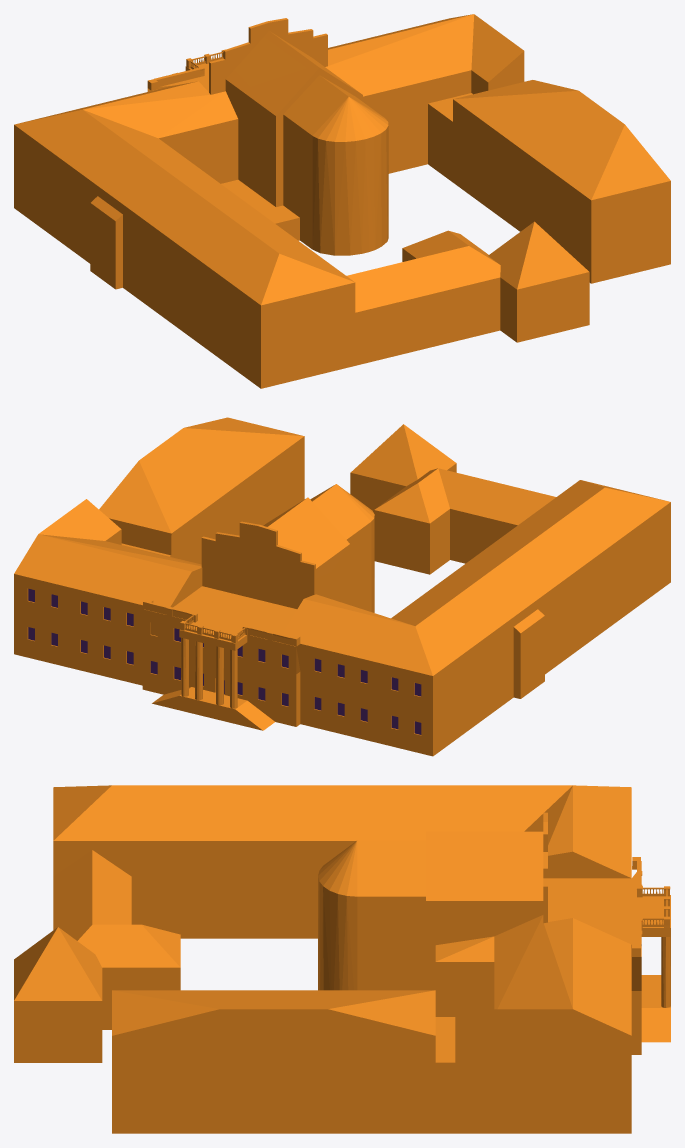
Rendered from Muzeum Malczewskiego.fbx.
3 views of the same model, one above another, from view 1: azimuth 30°, elevation 25°; view 2: azimuth 150°, elevation 25°; view 3: azimuth 270°, elevation 25° (orthographic). The views are drawn at different scales.
Visible parts, largest first — view 1: Muzueum_głó_obj_0; view 2: Muzueum_głó_obj_0; view 3: Muzueum_głó_obj_0.
Boxes of the visible parts, x1,y1,x2,y2 form: Muzueum_głó_obj_0: (14, 14, 670, 388); Muzueum_głó_obj_0: (14, 417, 670, 756); Muzueum_głó_obj_0: (14, 785, 670, 1133).
Bounding box in the file's own units: 38.8 × 13.41 × 42.61.
1 material, 1 textured.
